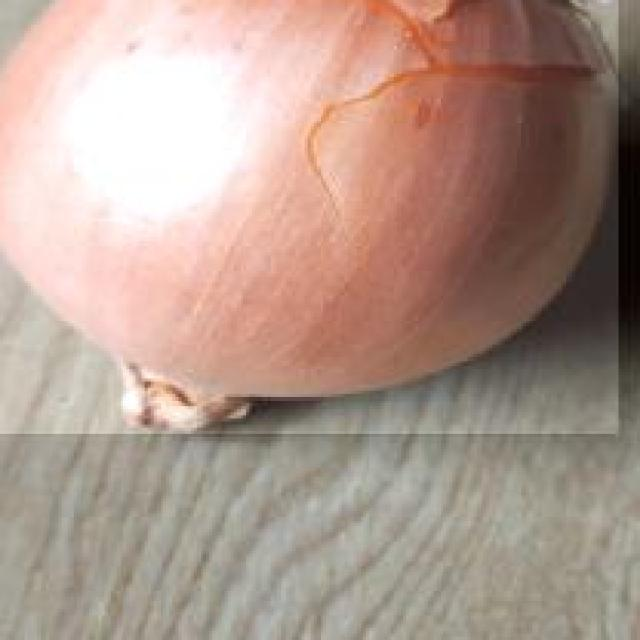onion: (0, 0, 618, 434)
